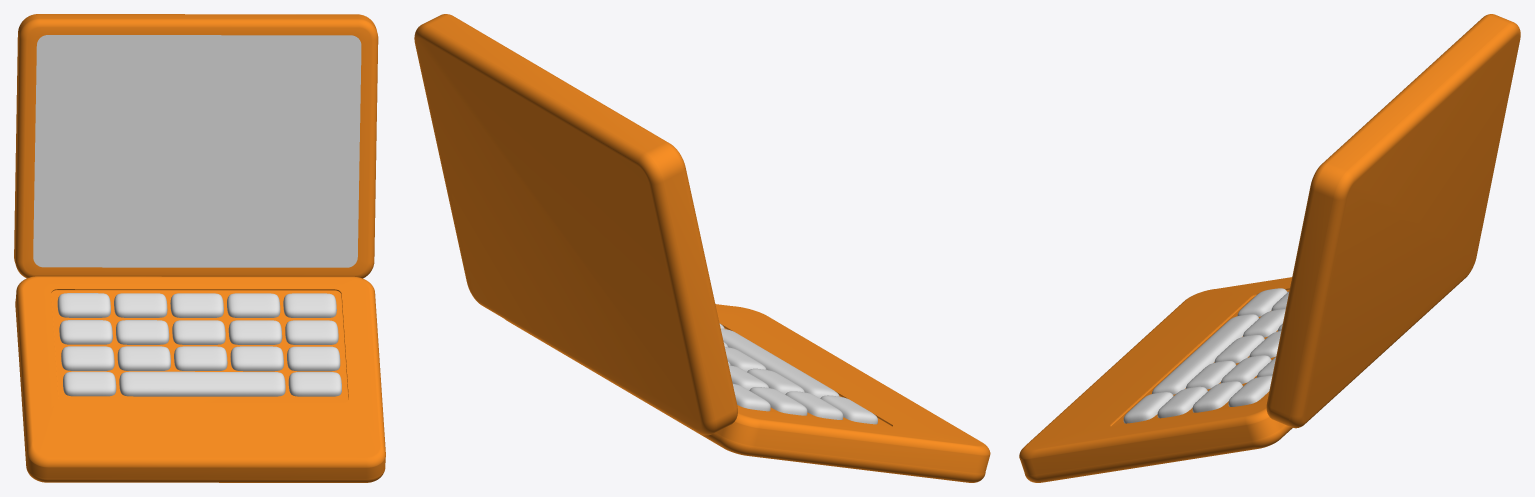
File: laptop-3d-icon-333779122665.glb
The picture shows the model from 3 angles, left to right: view 1: azimuth 30°, elevation 25°; view 2: azimuth 150°, elevation 25°; view 3: azimuth 270°, elevation 25°; orthographic projection. The views are drawn at different scales.
Parts seen in each view (by area): view 1: Screen & Keycaps, Laptop; view 2: Laptop, Screen & Keycaps; view 3: Laptop, Screen & Keycaps.
Part boxes in pixels (box(x1,y1,x2,y2)): Screen & Keycaps: box(33, 35, 361, 396); Laptop: box(14, 14, 385, 482); Laptop: box(414, 14, 990, 482); Screen & Keycaps: box(719, 323, 877, 424); Laptop: box(1019, 14, 1520, 482); Screen & Keycaps: box(1123, 288, 1289, 423).
Size of the model in its own units: 3.15 by 2.57 by 2.97.
